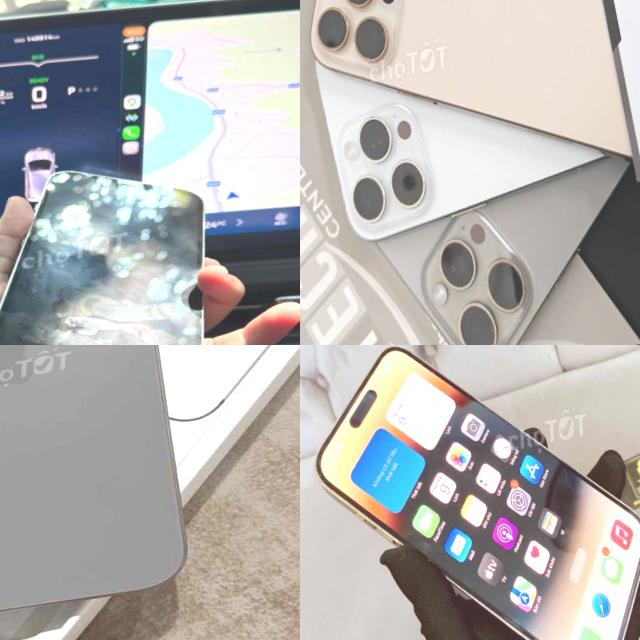gen_12_13: (0, 143, 249, 345)
gen_14: (317, 348, 640, 640)
gen_15: (0, 345, 222, 640)
gen_16: (300, 0, 640, 217)
